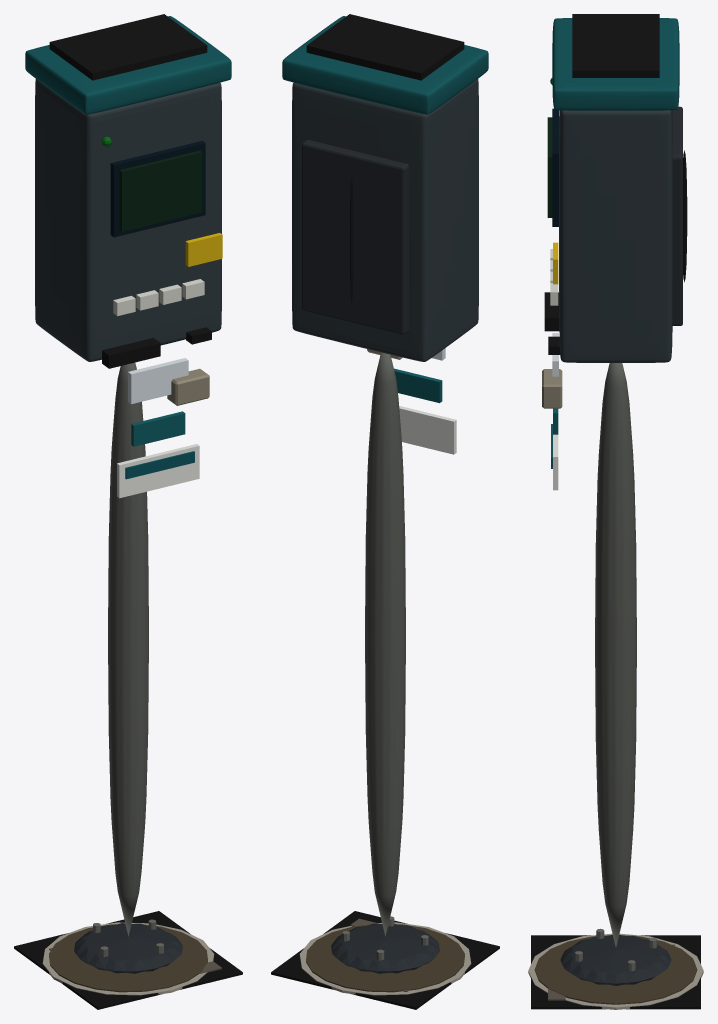
Rendered from hm_prop_parking_meter_v2.obj.
The picture shows the model from 3 angles, left to right: view 1: azimuth 30°, elevation 25°; view 2: azimuth 150°, elevation 25°; view 3: azimuth 270°, elevation 25°; orthographic projection.
Visible parts, largest first — view 1: Meter_Head, Meter_Pole, Meter_Cap, Meter_Solar, Meter_Screen, hm_prop_parking_meter_v2_Dirt, Meter_Flange, hm_prop_parking_meter_v2_Shadow, hm_prop_parking_meter_v2_AssetPlate, Meter_Glass, Meter_Num, hm_prop_parking_meter_v2_SaltRing (+5 smaller); view 2: Meter_Head, Meter_Pole, Meter_Door, Meter_Cap, Meter_Solar, hm_prop_parking_meter_v2_Dirt, Meter_Flange, hm_prop_parking_meter_v2_Shadow, hm_prop_parking_meter_v2_AssetPlate, hm_prop_parking_meter_v2_SaltRing, Meter_HM; view 3: Meter_Head, Meter_Pole, Meter_Cap, Meter_Solar, hm_prop_parking_meter_v2_Dirt, Meter_Flange, hm_prop_parking_meter_v2_Shadow, Meter_Door, hm_prop_parking_meter_v2_SaltRing, Meter_Glass, Meter_CoinRet, Meter_Screen (+2 smaller).
Boxes of the visible parts, box(x1,y1,x2,y2) form: Meter_Head: box(35, 79, 221, 361); Meter_Pole: box(108, 362, 148, 936); Meter_Cap: box(25, 16, 231, 114); Meter_Solar: box(49, 14, 207, 80); Meter_Screen: box(119, 150, 202, 231); hm_prop_parking_meter_v2_Dirt: box(49, 923, 207, 992); Meter_Flange: box(74, 923, 182, 973); hm_prop_parking_meter_v2_Shadow: box(14, 911, 242, 1009); hm_prop_parking_meter_v2_AssetPlate: box(117, 444, 199, 498); Meter_Glass: box(110, 140, 205, 237); Meter_Num: box(128, 358, 188, 404); hm_prop_parking_meter_v2_SaltRing: box(42, 922, 214, 995); Meter_Head: box(292, 79, 478, 361); Meter_Pole: box(365, 352, 405, 936); Meter_Door: box(302, 139, 409, 334); Meter_Cap: box(282, 16, 488, 114); Meter_Solar: box(306, 14, 464, 80); hm_prop_parking_meter_v2_Dirt: box(306, 923, 464, 992); Meter_Flange: box(331, 923, 439, 973); hm_prop_parking_meter_v2_Shadow: box(271, 911, 499, 1009); hm_prop_parking_meter_v2_AssetPlate: box(399, 406, 456, 454); hm_prop_parking_meter_v2_SaltRing: box(299, 922, 471, 995); Meter_HM: box(394, 368, 442, 403); Meter_Head: box(559, 110, 672, 362); Meter_Pole: box(595, 363, 636, 947); Meter_Cap: box(552, 18, 679, 110); Meter_Solar: box(572, 14, 659, 77); hm_prop_parking_meter_v2_Dirt: box(534, 935, 697, 1004); Meter_Flange: box(560, 935, 671, 985); hm_prop_parking_meter_v2_Shadow: box(531, 935, 700, 1009); Meter_Door: box(672, 106, 682, 325); hm_prop_parking_meter_v2_SaltRing: box(528, 933, 703, 1009); Meter_Glass: box(552, 108, 558, 226); Meter_CoinRet: box(542, 369, 562, 408); Meter_Screen: box(547, 117, 552, 217).
Size of the model in its own units: 0.2614 by 1.53 by 0.2614.
